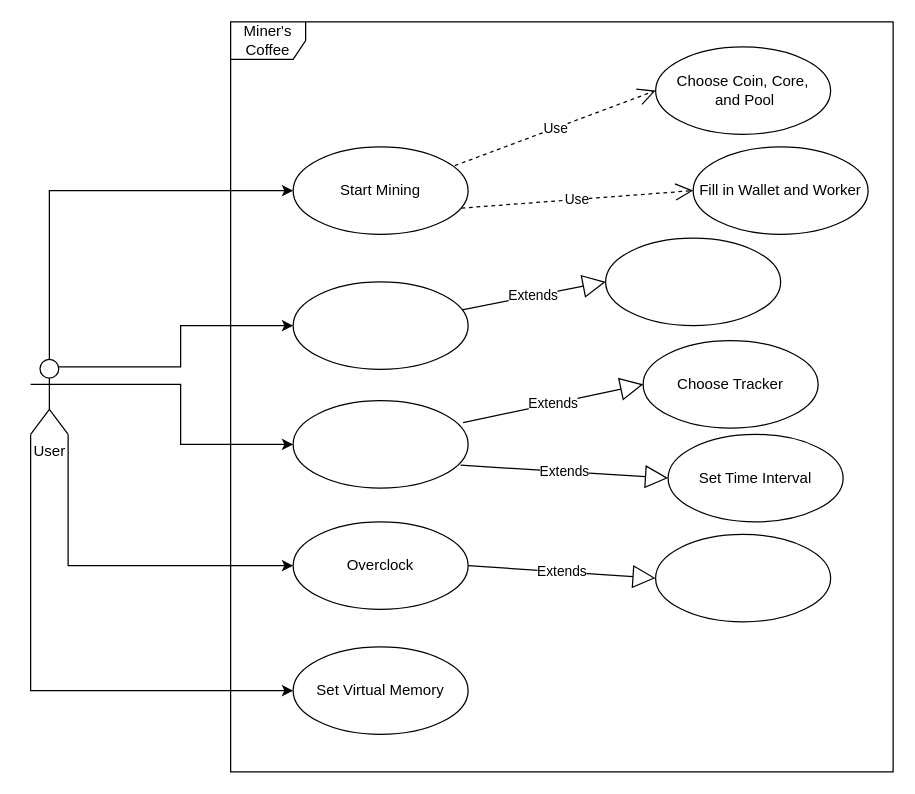
The diagram is 915 pixels wide and 794 high, and some of its shapes have lost their labels. Each missing label, with the centre of its shape:
"Auto OC" goes at (x=742, y=577).
"Check Monitor" goes at (x=380, y=325).
"Check Tracker" goes at (x=380, y=443).
"Choose Monitor" goes at (x=692, y=281).
